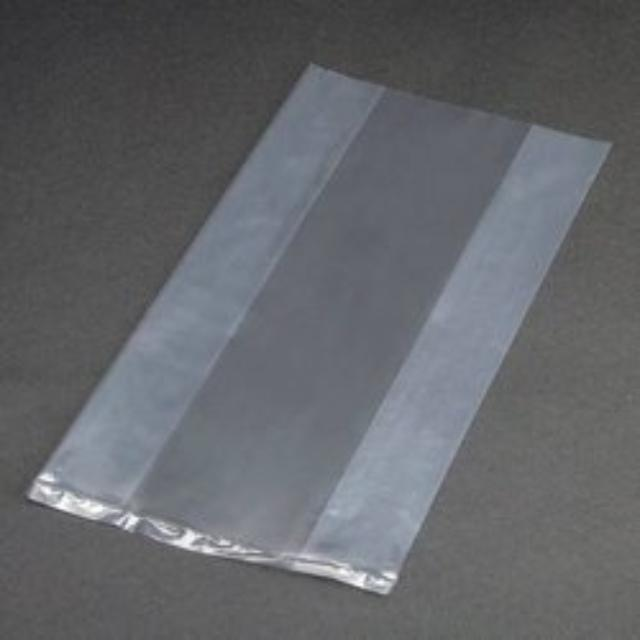plastic: (28, 65, 608, 593)
